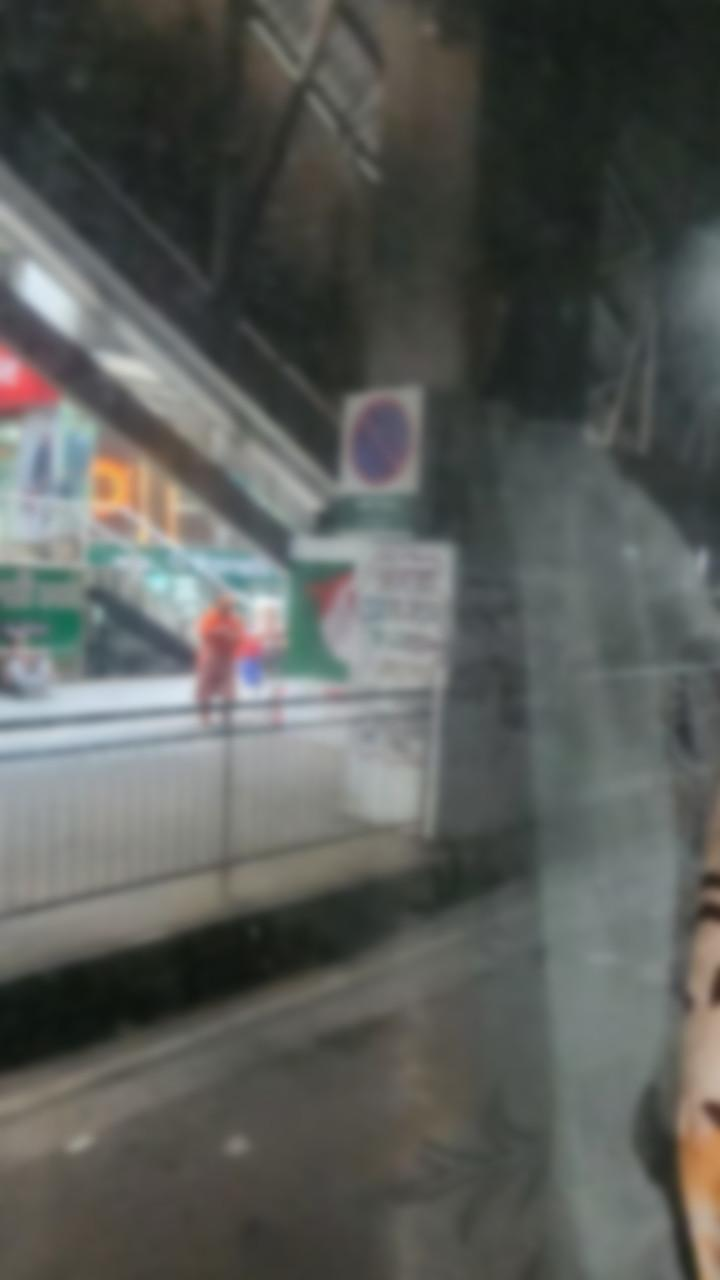No Parking: (339, 385, 424, 494)
